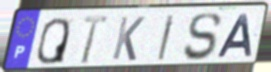A: (215, 13, 254, 59)
I: (156, 13, 177, 62)
K: (110, 15, 147, 63)
Q: (35, 16, 72, 66)
S: (182, 11, 224, 62)
T: (79, 14, 110, 66)
